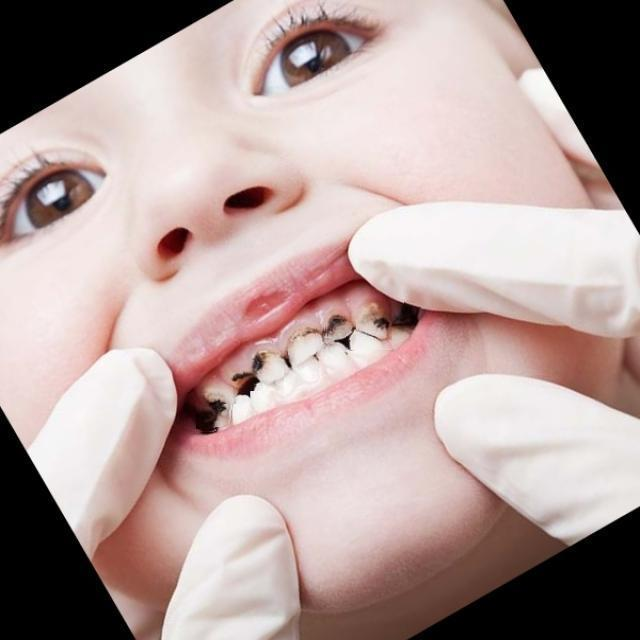Cavity: (240, 342, 284, 392), (288, 325, 324, 379), (356, 302, 392, 350), (176, 392, 216, 434), (196, 388, 234, 429), (324, 308, 356, 353), (217, 365, 250, 405), (392, 300, 421, 337)
